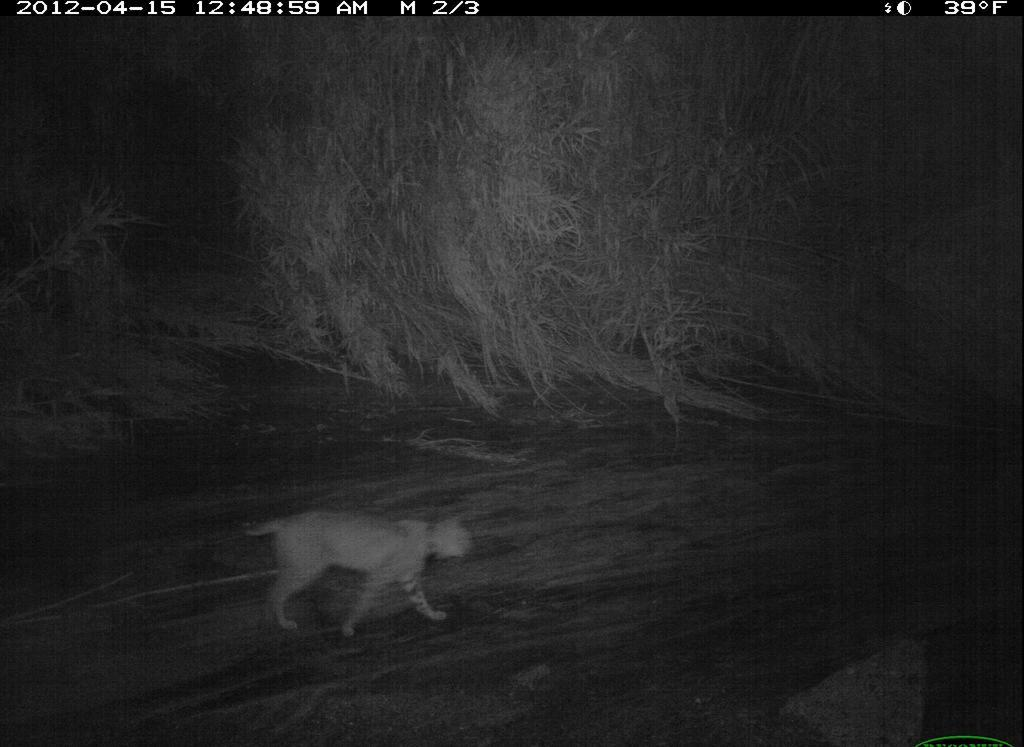bobcat: (227, 515, 488, 656)
